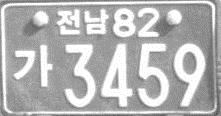2: (136, 6, 160, 38)
3: (63, 42, 97, 109)
4: (98, 41, 133, 108)
5: (135, 42, 170, 108)
8: (112, 7, 137, 39)
9: (171, 42, 206, 108)
가: (12, 42, 54, 88)
전남_O: (54, 7, 109, 37)
